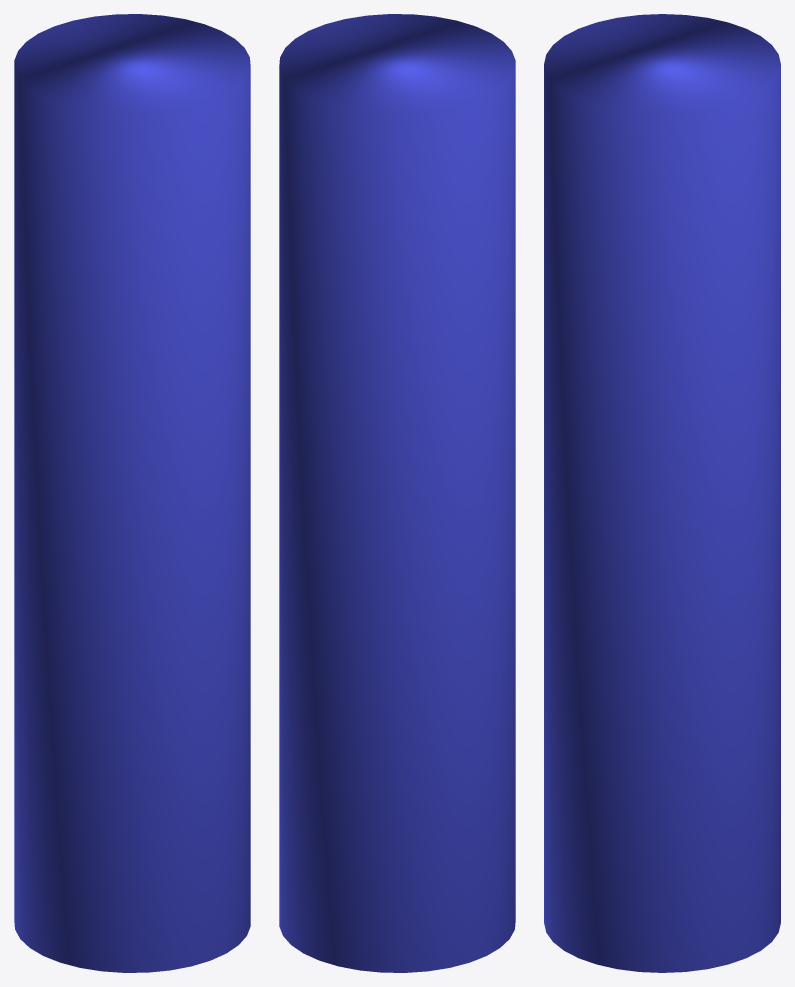
The model's file is test_CollisionField.fbx.
3 renders of one model, left to right at view 1: azimuth 30°, elevation 25°; view 2: azimuth 150°, elevation 25°; view 3: azimuth 270°, elevation 25°, orthographic.
Visible parts, largest first — view 1: Cylinder; view 2: Cylinder; view 3: Cylinder.
Part boxes in pixels (x1,y1,x2,y2): Cylinder: [14, 14, 250, 972]; Cylinder: [279, 14, 515, 972]; Cylinder: [544, 14, 780, 972].
Bounding box in the file's own units: 1000 × 4000 × 1000.
